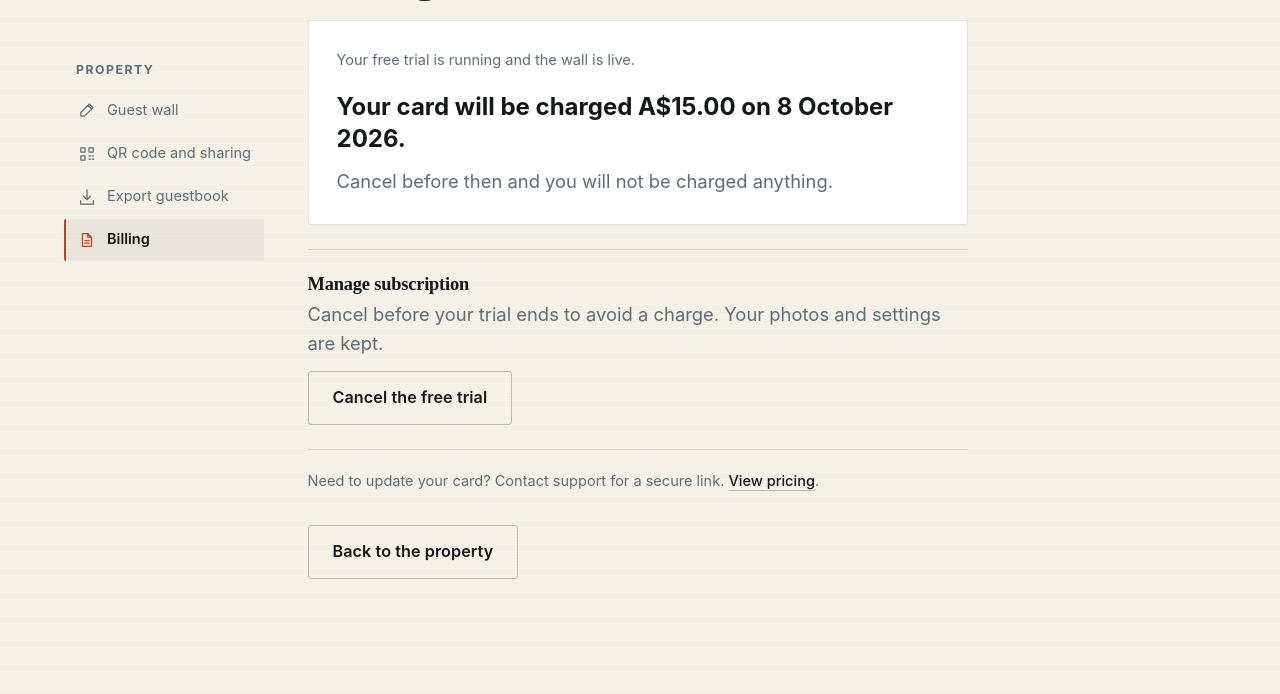
Test: property billing › cancels a trial through the server and confirms the date service stops
(page scrolled)
Click the button "Cancel the free trial".
click(410, 398)  # box [308,371,512,425]
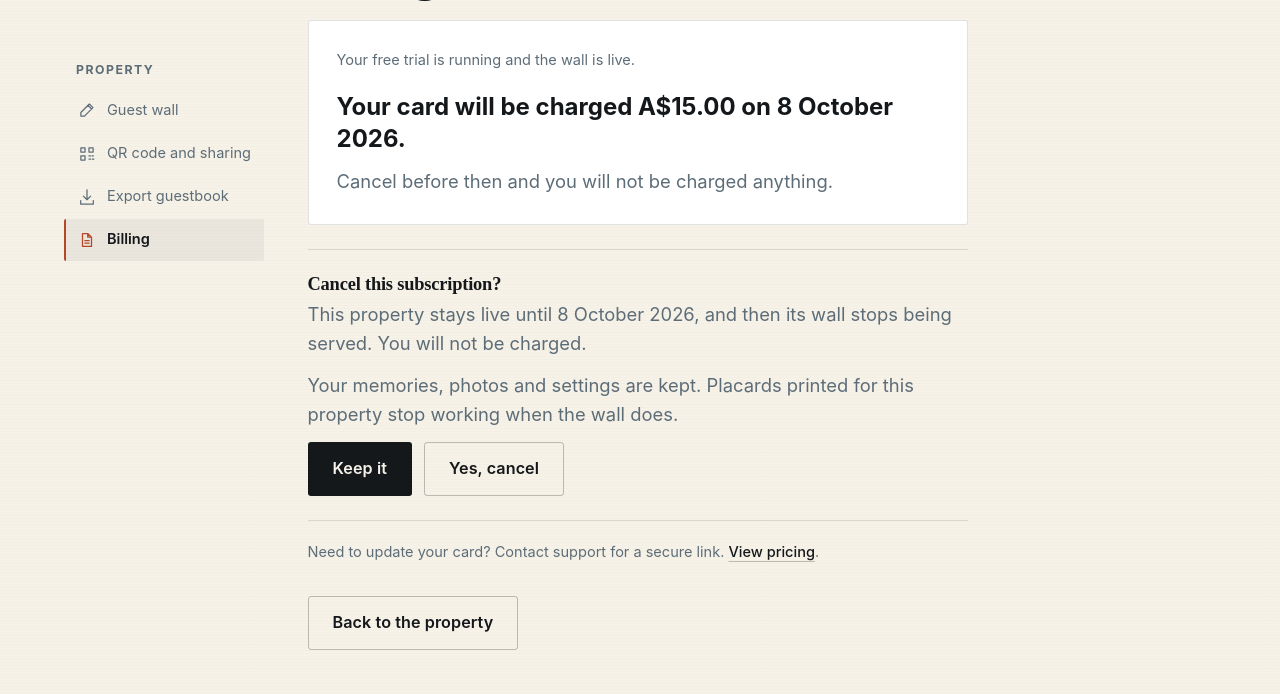
Expected: the text "stays live until 8 October 2026, and then its wall stops being served" is shown, [308,303,952,354]
Expected: the text "You will not be charged." is shown, [378,332,586,354]
Click the button "Yes, cancel".
click(494, 469)  # box [424,442,564,496]
(page scrolled)
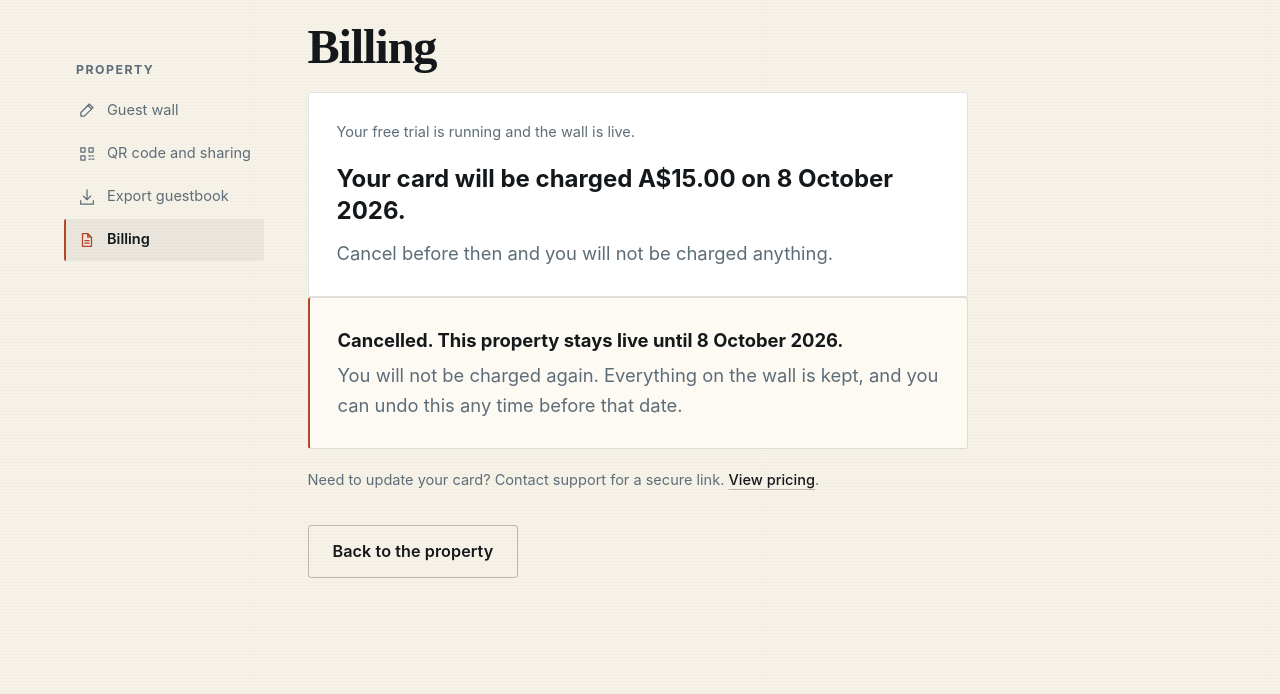
Expected: the text "Cancelled. This property stays live until 8 October 2026." is shown, [338,329,844,351]
